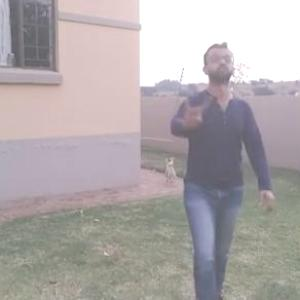takeoff-hand: (178, 92, 212, 128)
